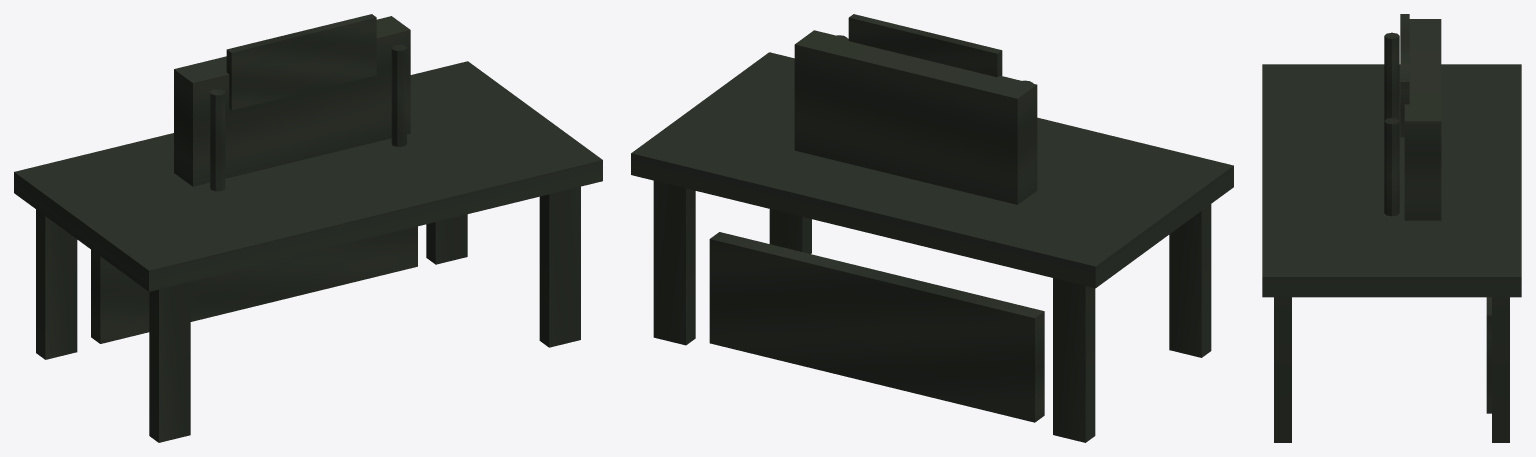
The model's file is prop_radar_console_desk_a.glb.
3 views of the same model, side by side, from view 1: azimuth 30°, elevation 25°; view 2: azimuth 150°, elevation 25°; view 3: azimuth 270°, elevation 25° (orthographic). The views are drawn at different scales.
Parts seen in each view (by area): view 1: prop_radar_console_desk_a; view 2: prop_radar_console_desk_a; view 3: prop_radar_console_desk_a.
Part boxes in pixels (x1,y1,x2,y2): prop_radar_console_desk_a: [14, 14, 602, 442]; prop_radar_console_desk_a: [631, 14, 1233, 442]; prop_radar_console_desk_a: [1262, 14, 1521, 442].
Bounding box in the file's own units: 1.65 × 1.07 × 0.85.
1 material, 1 textured.
